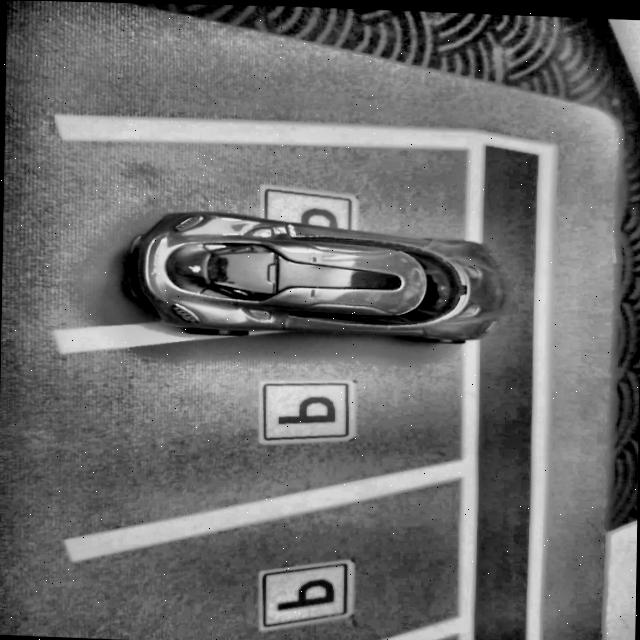car: (126, 208, 510, 345)
